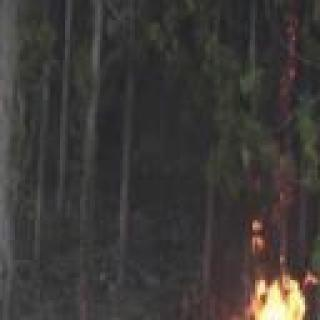fire: (177, 262, 320, 320)
